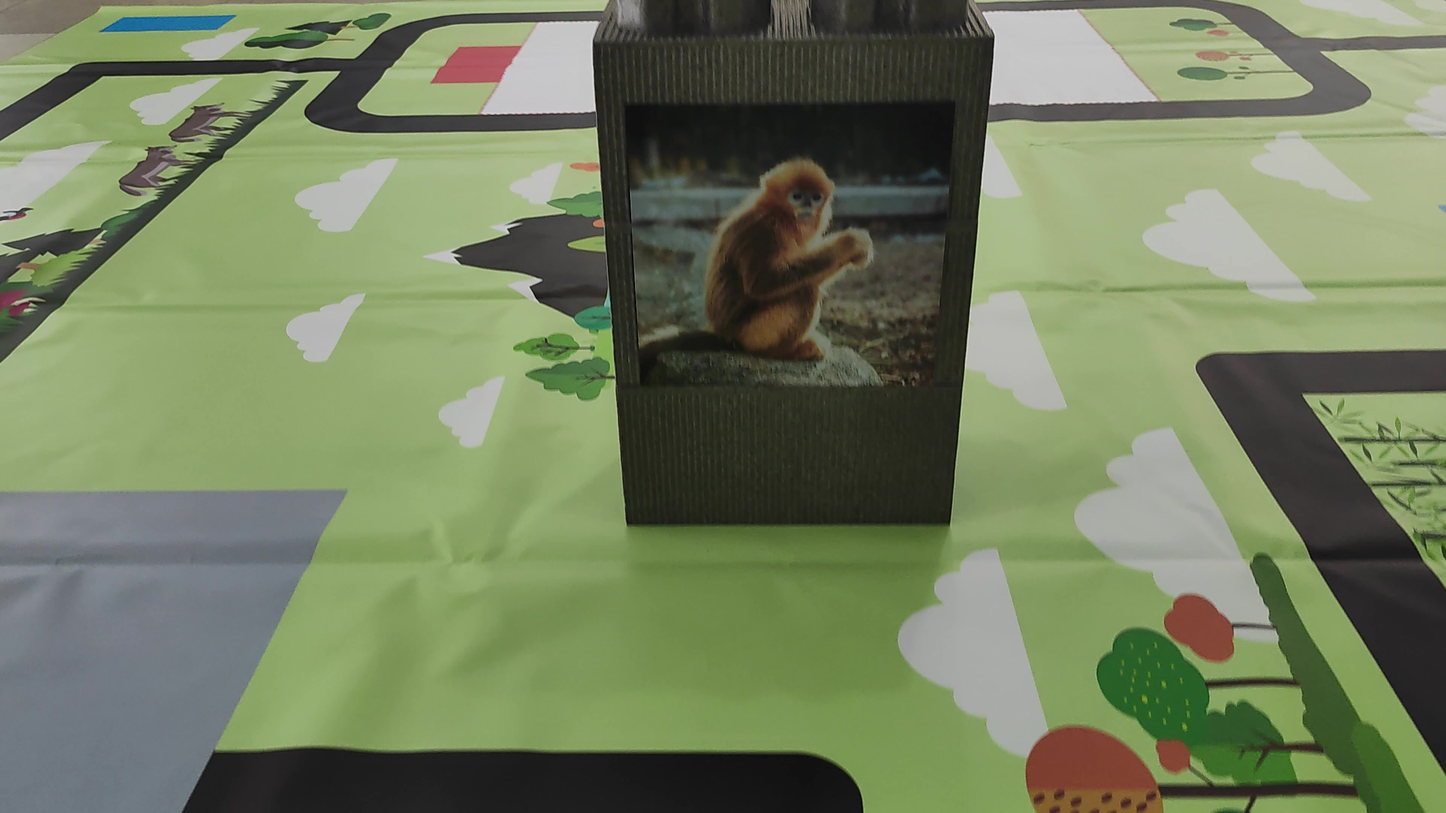monkey: (674, 143, 887, 375)
